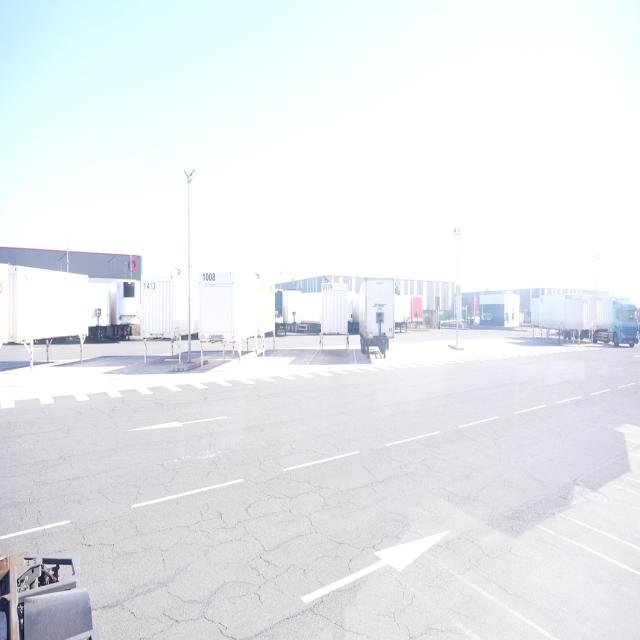Code: (140, 276, 158, 295), (200, 268, 218, 286), (321, 281, 334, 295)
